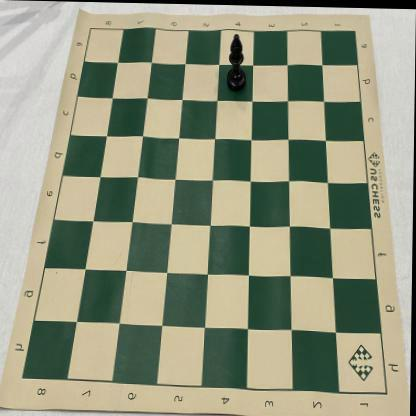black-bishop: (226, 32, 248, 92)
